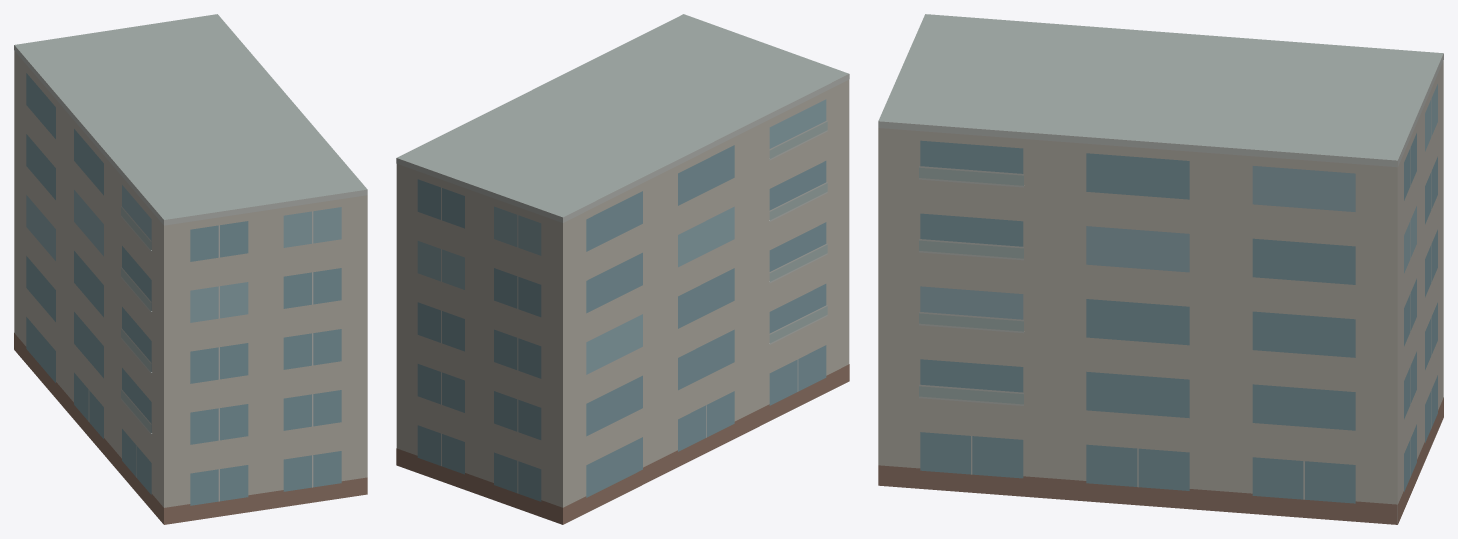
File: survey-upis-32666005.glb
3 views of the same model, side by side, from view 1: azimuth 30°, elevation 25°; view 2: azimuth 150°, elevation 25°; view 3: azimuth 270°, elevation 25° (orthographic). The views are drawn at different scales.
Visible parts, largest first — view 1: survey-upis-32666005.tmp; view 2: survey-upis-32666005.tmp; view 3: survey-upis-32666005.tmp.
Boxes of the visible parts, left/top/right/bottom form: survey-upis-32666005.tmp: left=14, top=14, right=367, bottom=524; survey-upis-32666005.tmp: left=396, top=14, right=849, bottom=524; survey-upis-32666005.tmp: left=878, top=14, right=1443, bottom=524.
Bounding box in the file's own units: 11.49 × 13.3 × 18.72.
